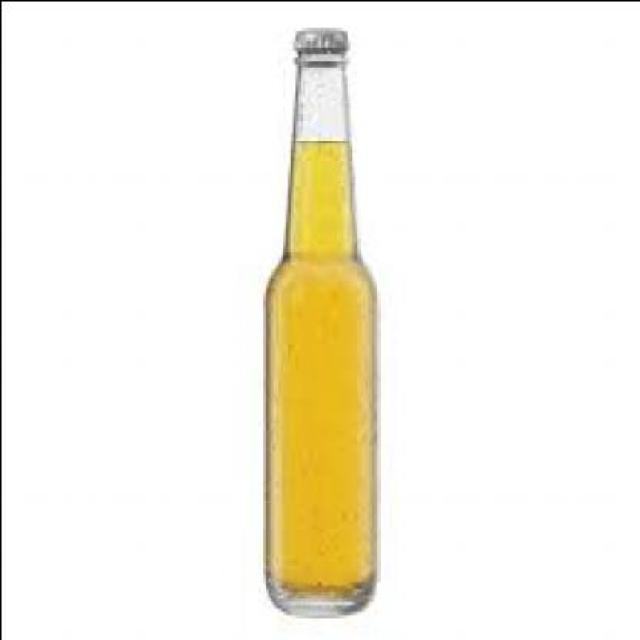GLASS: (261, 52, 378, 616)
METAL: (296, 28, 346, 52)
